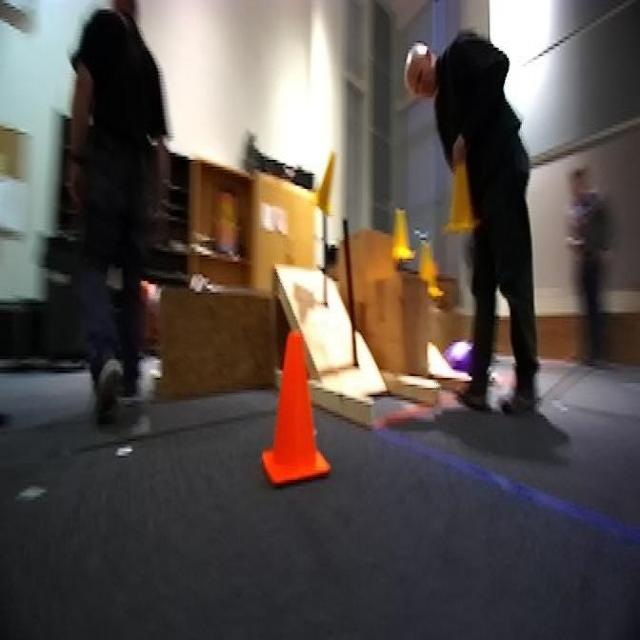frc_cone: (452, 154, 478, 226), (416, 226, 442, 296), (312, 152, 339, 214), (392, 200, 414, 270)
frc_cube: (445, 340, 474, 374)
